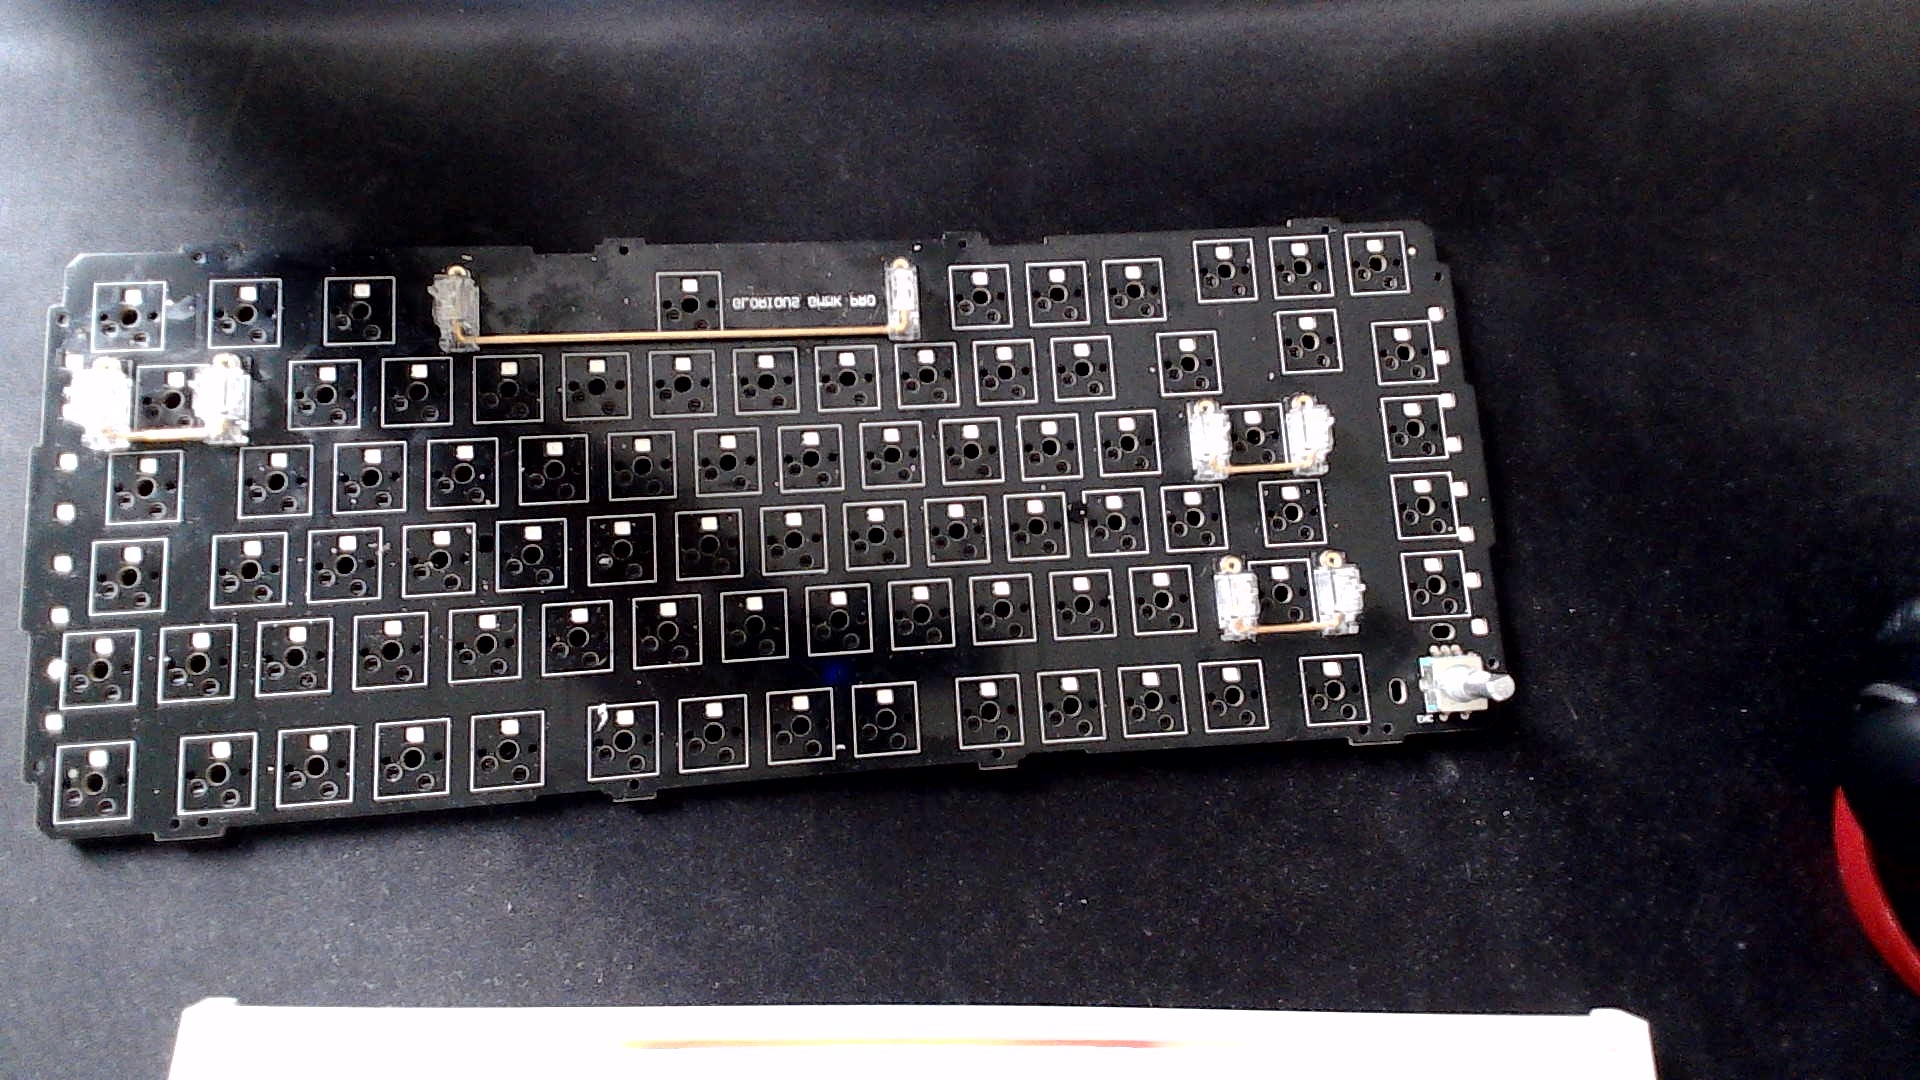pcb: (15, 182, 1538, 884)
